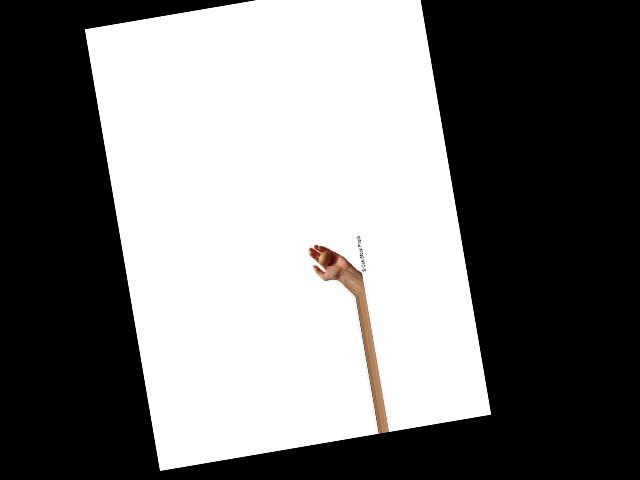egg: (317, 249, 333, 265)
